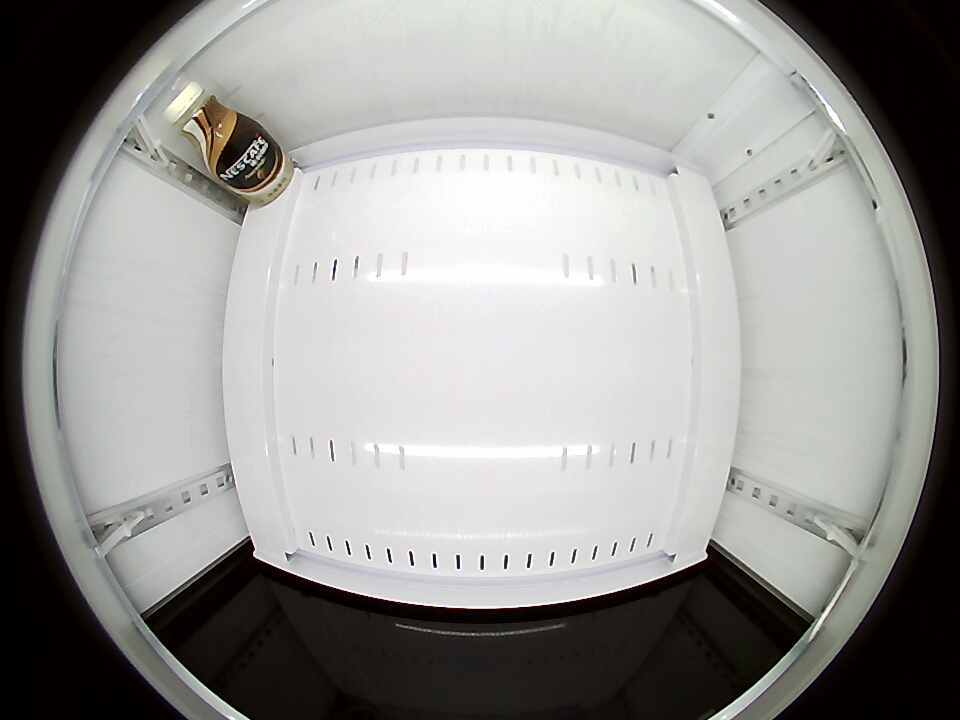kafei: (164, 81, 252, 175)
